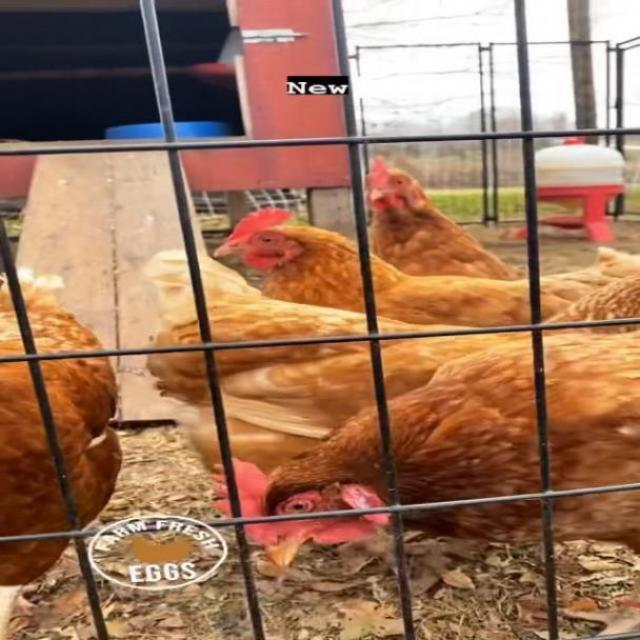Chicken: (208, 329, 640, 640), (138, 248, 640, 480), (209, 207, 640, 330), (0, 265, 125, 639), (358, 155, 526, 281)
